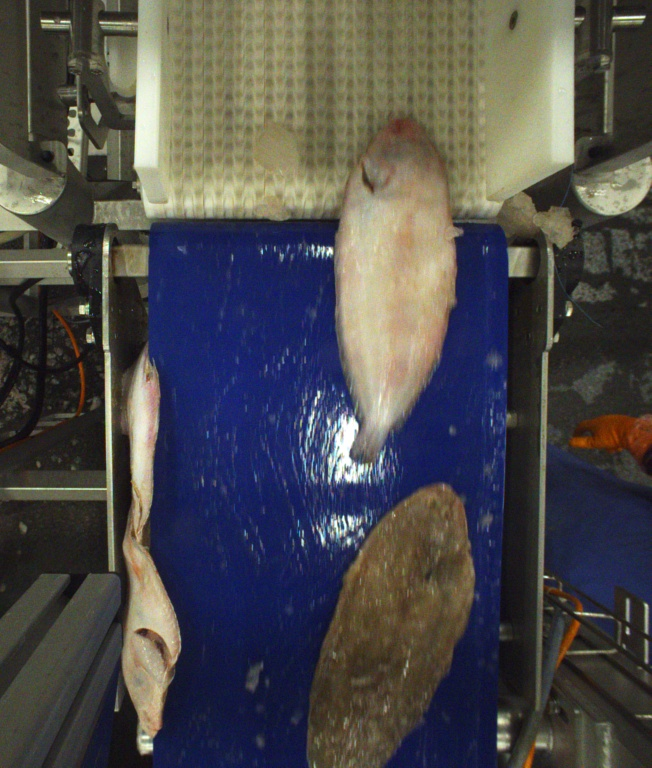SOL: (307, 480, 476, 768)
